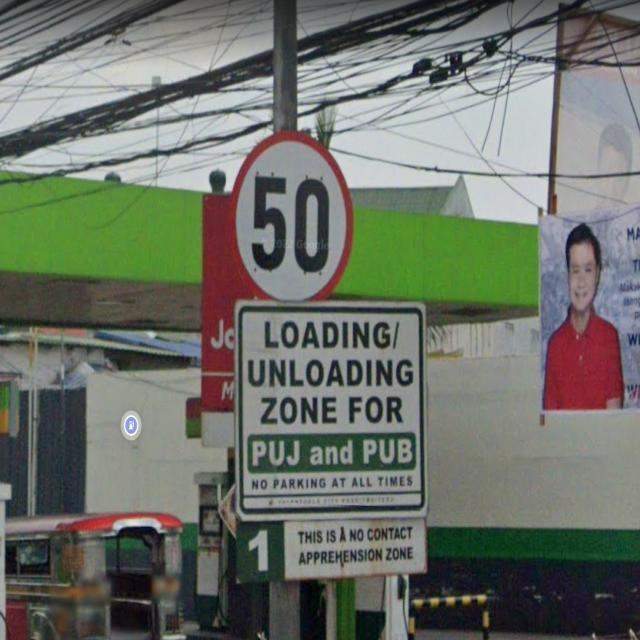50 kph: (228, 130, 353, 306)
